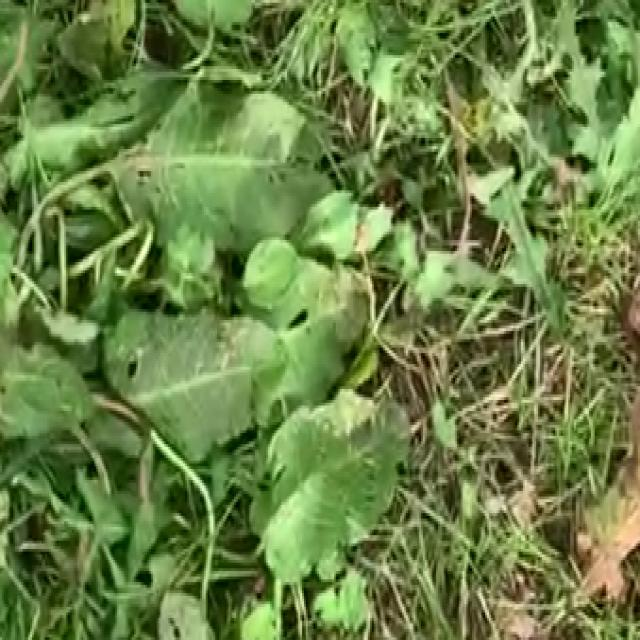organic waste: (0, 14, 421, 640)
